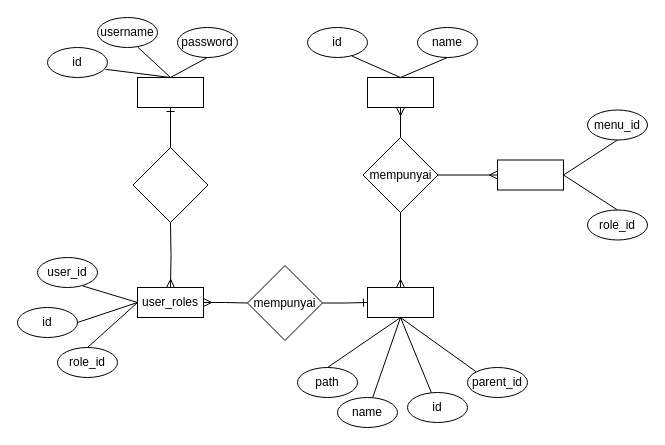
This 665x445 diagram has some shape labels left out. The centre of each missing label's shape, as x and y in pixels:
"memiliki" belongs at point (170, 184).
"menu_roles" belongs at point (530, 174).
"menus" belongs at point (400, 302).
"role" belongs at point (400, 92).
"users" belongs at point (170, 92).
